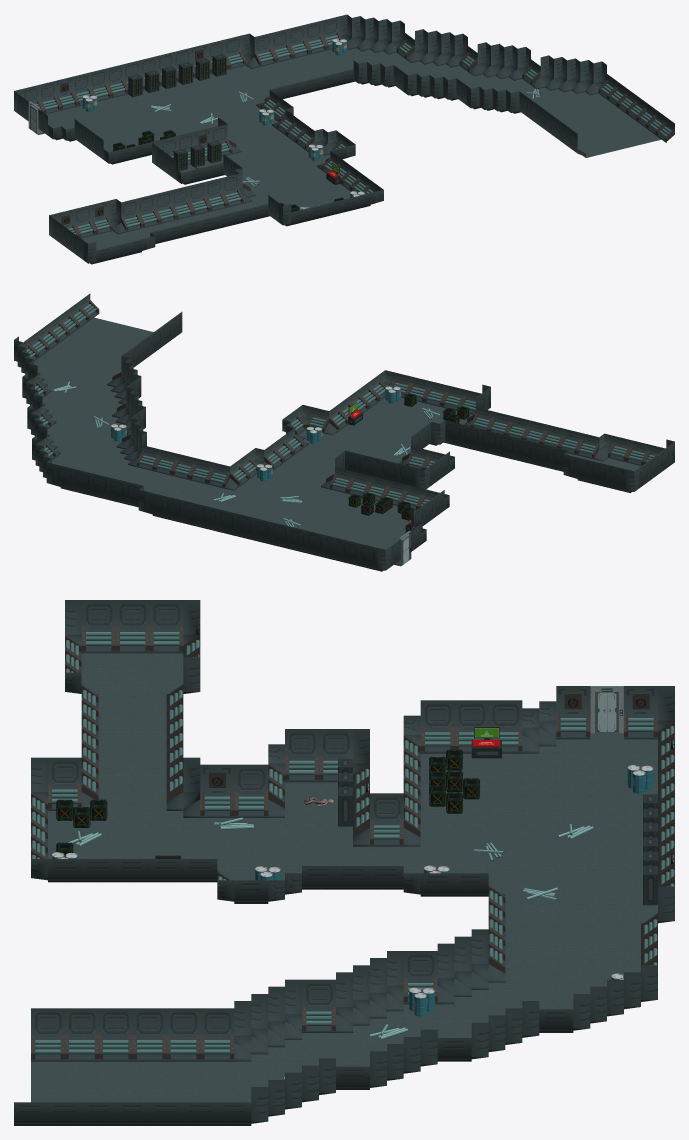
Rendered from MK_Ship_Room1.fbx.
3 views of the same model, one above another, from view 1: azimuth 30°, elevation 25°; view 2: azimuth 150°, elevation 25°; view 3: azimuth 270°, elevation 25° (orthographic). The views are drawn at different scales.
Visible parts, largest first — view 1: MK_Ship_Wall45, MK_Ship_Wall11, MK_Ship_Wall36, MK_Ship_Wall10, MK_Ship_Wall07, MK_Ship_Wall46, MK_Ship_Wall12, MK_Ship_Wall44, MK_Ship_Wall09, MK_Ship_Wall08, MK_Ship_Wall13, MK_Ship_Wall47 (+9 smaller); view 2: MK_Ship_Wall01_Short3, MK_Ship_Wall01_Short36, MK_Ship_Wall01_Short37, MK_Ship_Wall46, MK_Ship_Wall44, MK_Ship_Wall32, MK_Ship_Wall58, MK_Ship_Wall11, MK_Ship_Wall18, MK_Ship_Wall38, MK_Ship_Wall40, MK_Ship_Wall35 (+16 smaller); view 3: MK_Ship_Wall51, MK_Ship_Wall52, MK_Ship_Wall53, MK_Ship_Wall54, MK_Ship_Wall05, MK_Ship_Wall06, MK_Ship_Wall14, MK_Ship_Wall15, MK_Ship_Wall29, MK_Ship_Wall04, MK_Ship_Wall24, MK_Ship_Wall16 (+45 smaller).
Part boxes in pixels (box(x1,y1,x2,y2)): MK_Ship_Wall45: box(254, 33, 276, 66); MK_Ship_Wall11: box(188, 182, 210, 215); MK_Ship_Wall36: box(106, 64, 128, 98); MK_Ship_Wall10: box(171, 186, 193, 219); MK_Ship_Wall07: box(121, 198, 142, 232); MK_Ship_Wall46: box(271, 29, 292, 62); MK_Ship_Wall12: box(205, 178, 226, 211); MK_Ship_Wall44: box(224, 35, 245, 69); MK_Ship_Wall09: box(155, 190, 176, 223); MK_Ship_Wall08: box(138, 194, 159, 227); MK_Ship_Wall13: box(222, 173, 243, 207); MK_Ship_Wall47: box(288, 25, 309, 58); MK_Ship_Wall01_Short3: box(576, 433, 599, 459); MK_Ship_Wall01_Short36: box(207, 462, 229, 488); MK_Ship_Wall01_Short37: box(189, 458, 212, 484); MK_Ship_Wall46: box(108, 477, 131, 505); MK_Ship_Wall44: box(147, 492, 170, 519); MK_Ship_Wall32: box(341, 539, 364, 567); MK_Ship_Wall58: box(55, 464, 78, 492); MK_Ship_Wall11: box(480, 429, 503, 456); MK_Ship_Wall18: box(607, 465, 630, 492); MK_Ship_Wall38: box(235, 513, 258, 541); MK_Ship_Wall40: box(200, 505, 223, 532); MK_Ship_Wall35: box(288, 526, 311, 554); MK_Ship_Wall51: box(200, 1008, 234, 1061); MK_Ship_Wall52: box(166, 1008, 200, 1061); MK_Ship_Wall53: box(132, 1008, 166, 1061); MK_Ship_Wall54: box(98, 1008, 132, 1061); MK_Ship_Wall05: box(115, 600, 149, 653); MK_Ship_Wall06: box(81, 600, 115, 653); MK_Ship_Wall14: box(200, 764, 234, 817); MK_Ship_Wall15: box(234, 764, 268, 817); MK_Ship_Wall29: box(556, 686, 590, 739); MK_Ship_Wall04: box(149, 600, 183, 653); MK_Ship_Wall24: box(420, 700, 454, 753); MK_Ship_Wall16: box(285, 729, 318, 782).
Bounding box in the file's own units: 17 × 0.7541 × 9.75.
16 materials, 16 textured.
